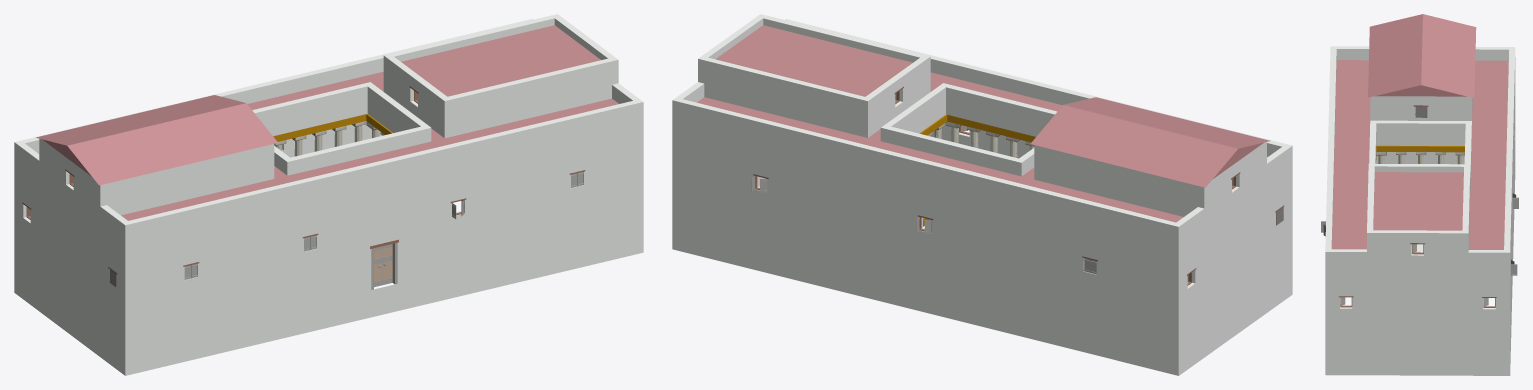
File: LOD_Block_1_62.glb
The picture shows the model from 3 angles, left to right: view 1: azimuth 30°, elevation 25°; view 2: azimuth 150°, elevation 25°; view 3: azimuth 270°, elevation 25°; orthographic projection. The views are drawn at different scales.
Visible parts, largest first — view 1: _1.2235; view 2: _1.2235; view 3: _1.2235.
Part boxes in pixels (left/top/right/bottom): _1.2235: left=14, top=14, right=643, bottom=375; _1.2235: left=672, top=14, right=1292, bottom=375; _1.2235: left=1321, top=14, right=1518, bottom=375.
Bounding box in the file's own units: 39.66 × 13.81 × 15.99.
3 materials, 3 textured.
